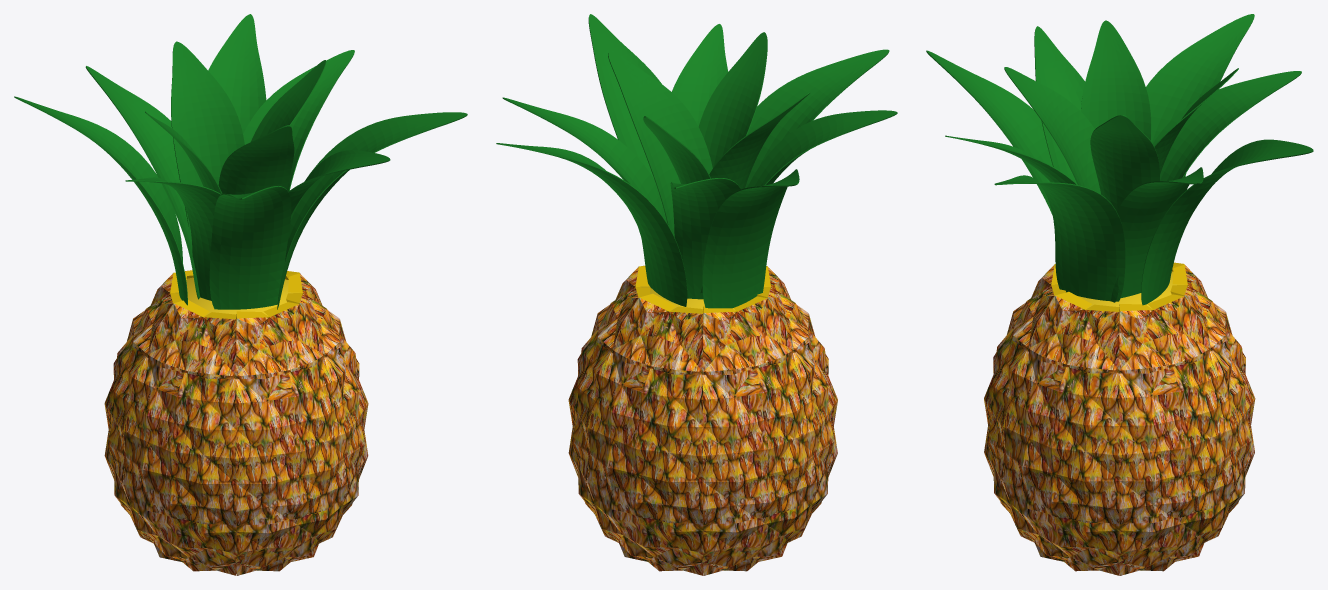
File: pineapple.fbx
3 renders of one model, left to right at view 1: azimuth 30°, elevation 25°; view 2: azimuth 150°, elevation 25°; view 3: azimuth 270°, elevation 25°, orthographic. The views are drawn at different scales.
Visible parts, largest first — view 1: textured pineapple.003, textured pineapple.004, out.007, inside.004, textured pineapple.005, textured pineapple.002, out.005, mid.006, out.004, out.006, inside.007, mid.004 (+5 smaller); view 2: textured pineapple.001, textured pineapple.002, out.004, inside.006, textured pineapple, textured pineapple.003, out.006, out.007, inside.007, mid.006, mid.004, mid.005 (+4 smaller); view 3: textured pineapple, textured pineapple.005, out.005, textured pineapple.001, textured pineapple.004, out.004, out.006, inside.005, mid.006, inside.006, out.007, mid.004 (+5 smaller).
Part boxes in pixels (box(x1,y1,x2,y2)): textured pineapple.003: box(123, 300, 237, 575); textured pineapple.004: box(236, 302, 349, 575); out.007: box(209, 186, 291, 309); inside.004: box(171, 41, 244, 229); textured pineapple.005: box(286, 273, 368, 556); textured pineapple.002: box(104, 272, 186, 543); out.005: box(277, 112, 467, 309); mid.006: box(85, 66, 200, 299); out.004: box(14, 96, 187, 305); out.006: box(208, 14, 266, 133); inside.007: box(218, 125, 294, 194); mid.004: box(243, 50, 354, 191); textured pineapple.001: box(587, 293, 704, 575); textured pineapple.002: box(703, 296, 819, 575); out.004: box(702, 169, 799, 308); inside.006: box(608, 51, 712, 236); textured pineapple: box(568, 266, 650, 553); textured pineapple.003: box(757, 267, 837, 556); out.006: box(496, 143, 687, 306); out.007: box(745, 49, 889, 187); inside.007: box(698, 32, 767, 167); mid.006: box(670, 178, 740, 299); mid.004: box(502, 97, 666, 222); mid.005: box(747, 110, 897, 187); textured pineapple: box(1119, 294, 1236, 575); textured pineapple.005: box(1003, 291, 1120, 575); out.005: box(994, 175, 1125, 301); textured pineapple.001: box(1170, 264, 1255, 555); textured pineapple.004: box(984, 264, 1065, 542); out.004: box(1146, 14, 1254, 177); out.006: box(1141, 139, 1313, 305); inside.005: box(1081, 20, 1151, 141); mid.006: box(1153, 71, 1301, 181); inside.006: box(1090, 115, 1159, 211); out.007: box(926, 50, 1052, 214); mid.004: box(1117, 167, 1203, 297).
Bounding box in the file's own units: 1318 × 1753 × 1311.
Materials: 14 (6 with a texture image).
